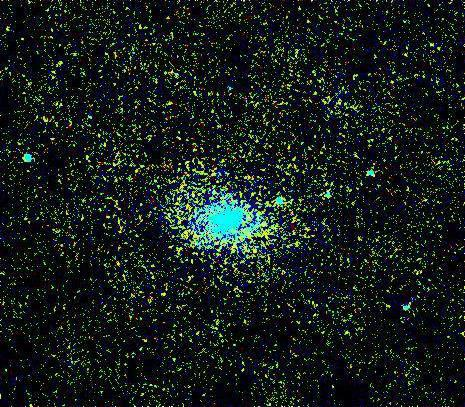star: (42, 53, 72, 83)
